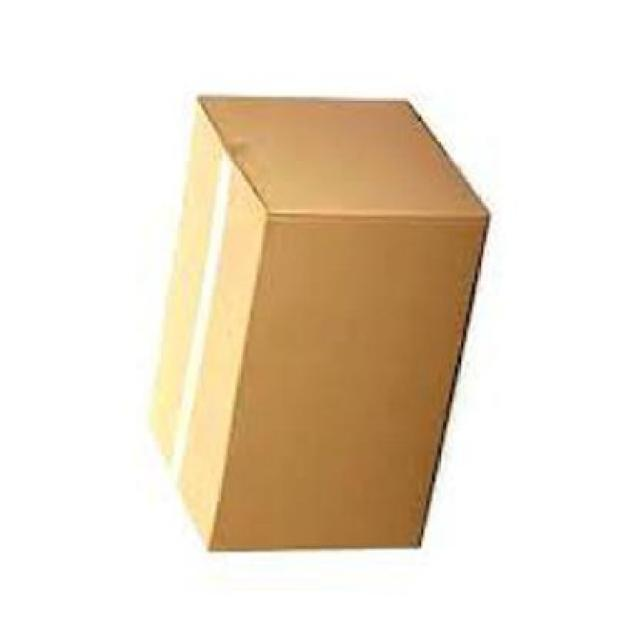normal: (150, 88, 496, 568)
